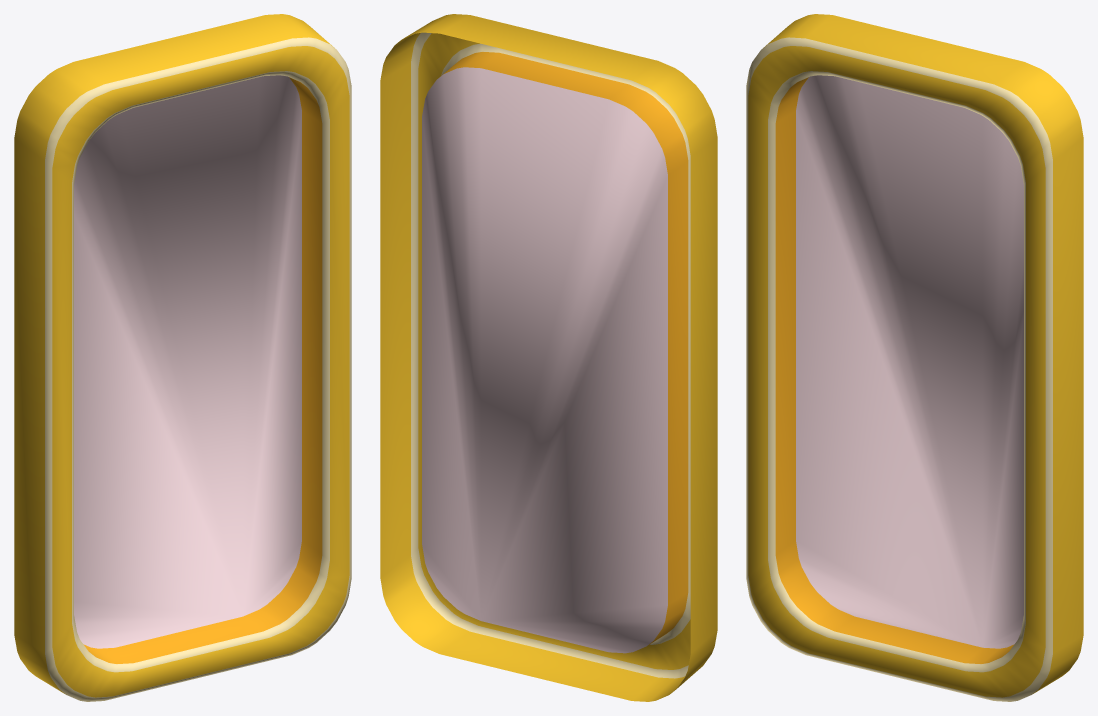
The model's file is GameField3.fbx.
3 views of the same model, side by side, from view 1: azimuth 30°, elevation 25°; view 2: azimuth 150°, elevation 25°; view 3: azimuth 330°, elevation 25° (orthographic).
Parts seen in each view (by area): view 1: Cube.001; view 2: Cube.001; view 3: Cube.001.
Boxes of the visible parts, bbox=[...] form: Cube.001: bbox=[14, 14, 351, 701]; Cube.001: bbox=[380, 14, 717, 701]; Cube.001: bbox=[746, 14, 1083, 701].
Bounding box in the file's own units: 1.98 × 3.78 × 0.3472.
